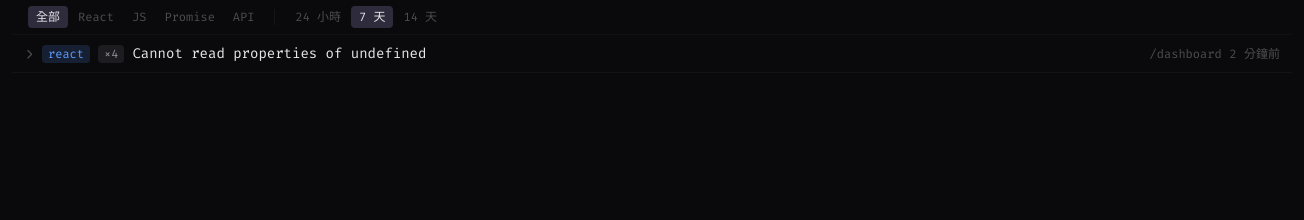
Test: ClientErrorsPanel › fetches and shows event detail (stack) on expand
Click the text "Cannot read properties of undefined" at (279, 54), box [132,44,426,63]
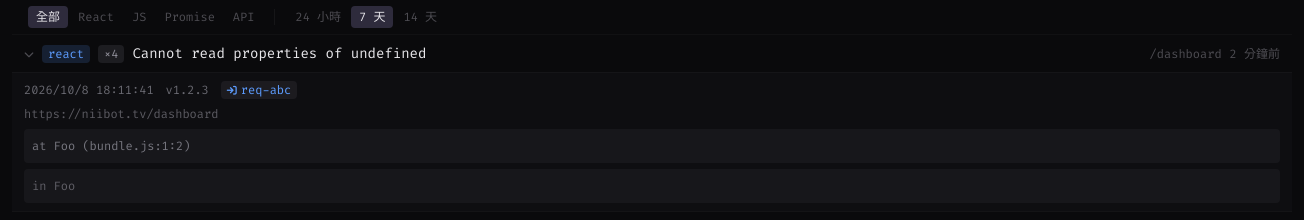
expect the text "at Foo (bundle.js:1:2)" is shown: met, box [24,129,1280,163]
